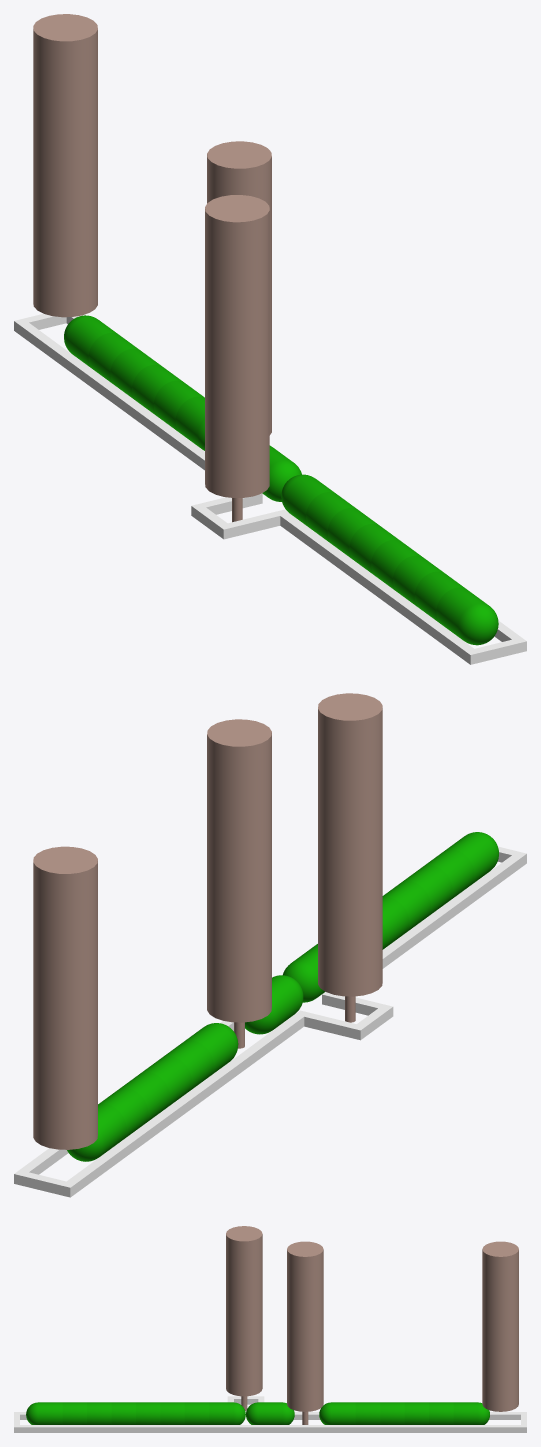
File: StreetFoilage1_PH.fbx
3 views of the same model, one above another, from view 1: azimuth 30°, elevation 25°; view 2: azimuth 150°, elevation 25°; view 3: azimuth 270°, elevation 25° (orthographic). The views are drawn at different scales.
Visible parts, largest first — view 1: Tree__1_, Tree__3_, Tree__5_, BuildingBorer__9_, BuildingBorer__3_, Bush__26_, Bush__9_, Bush, Bush__25_, Bush__1_, Bush__15_, Bush__4_ (+10 smaller); view 2: Tree__5_, Tree__3_, Tree__1_, BuildingBorer__3_, BuildingBorer__9_, Bush__8_, Bush, Bush__5_, Bush__26_, Bush__4_, Bush__25_, Bush__24_ (+10 smaller); view 3: Tree__1_, Tree__5_, Tree__3_, BuildingBorer__4_, Bush__8_, Bush__26_, Bush__9_, Bush__5_, Bush, Bush__4_, Bush__13_, Bush__2_ (+8 smaller).
Part boxes in pixels (bbox=[...]): Tree__1_: bbox=[33, 14, 97, 317]; Tree__3_: bbox=[205, 195, 269, 497]; Tree__5_: bbox=[207, 141, 271, 435]; BuildingBorer__9_: bbox=[275, 509, 479, 664]; BuildingBorer__3_: bbox=[14, 318, 262, 505]; Bush__26_: bbox=[436, 587, 498, 645]; Bush__9_: bbox=[281, 474, 335, 528]; Bush: bbox=[64, 315, 118, 369]; Bush__25_: bbox=[414, 571, 465, 624]; Bush__1_: bbox=[88, 333, 140, 384]; Bush__15_: bbox=[349, 524, 401, 576]; Bush__4_: bbox=[153, 380, 204, 433]; Tree__5_: bbox=[207, 719, 271, 1022]; Tree__3_: bbox=[318, 693, 382, 996]; Tree__1_: bbox=[33, 846, 97, 1149]; BuildingBorer__3_: bbox=[61, 1010, 308, 1197]; BuildingBorer__9_: bbox=[322, 851, 526, 1006]; Bush__8_: bbox=[245, 975, 303, 1034]; Bush: bbox=[67, 1104, 126, 1161]; Bush__5_: bbox=[184, 1023, 238, 1076]; Bush__26_: bbox=[445, 832, 498, 885]; Bush__4_: bbox=[162, 1040, 213, 1091]; Bush__25_: bbox=[423, 849, 474, 902]; Bush__24_: bbox=[401, 865, 452, 917]; Tree__1_: bbox=[482, 1241, 518, 1411]; Tree__5_: bbox=[287, 1241, 323, 1411]; Tree__3_: bbox=[226, 1226, 262, 1396]; BuildingBorer__4_: bbox=[14, 1425, 526, 1432]; Bush__8_: bbox=[246, 1402, 294, 1424]; Bush__26_: bbox=[26, 1402, 62, 1424]; Bush__9_: bbox=[209, 1402, 245, 1424]; Bush__5_: bbox=[319, 1402, 355, 1424]; Bush: bbox=[453, 1402, 489, 1424]; Bush__4_: bbox=[355, 1402, 380, 1424]; Bush__13_: bbox=[184, 1402, 209, 1424]; Bush__2_: bbox=[404, 1402, 428, 1424].
Bounding box in the file's own units: 300 × 797 × 2100.
